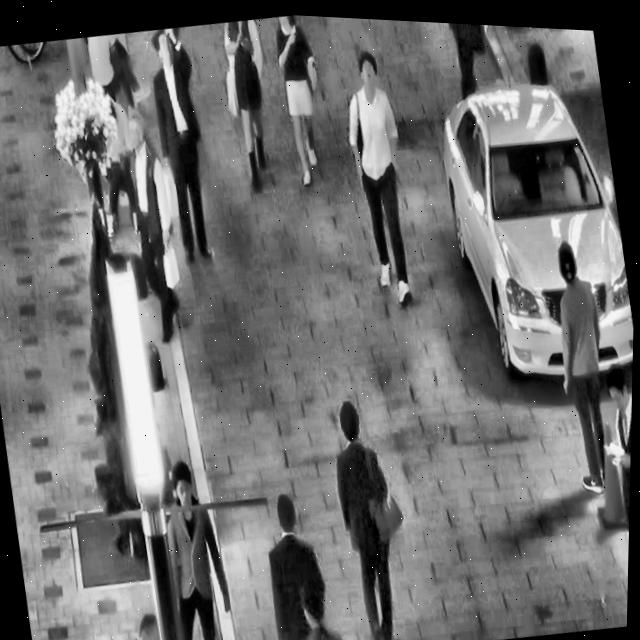light_vehicle: (421, 44, 640, 399)
